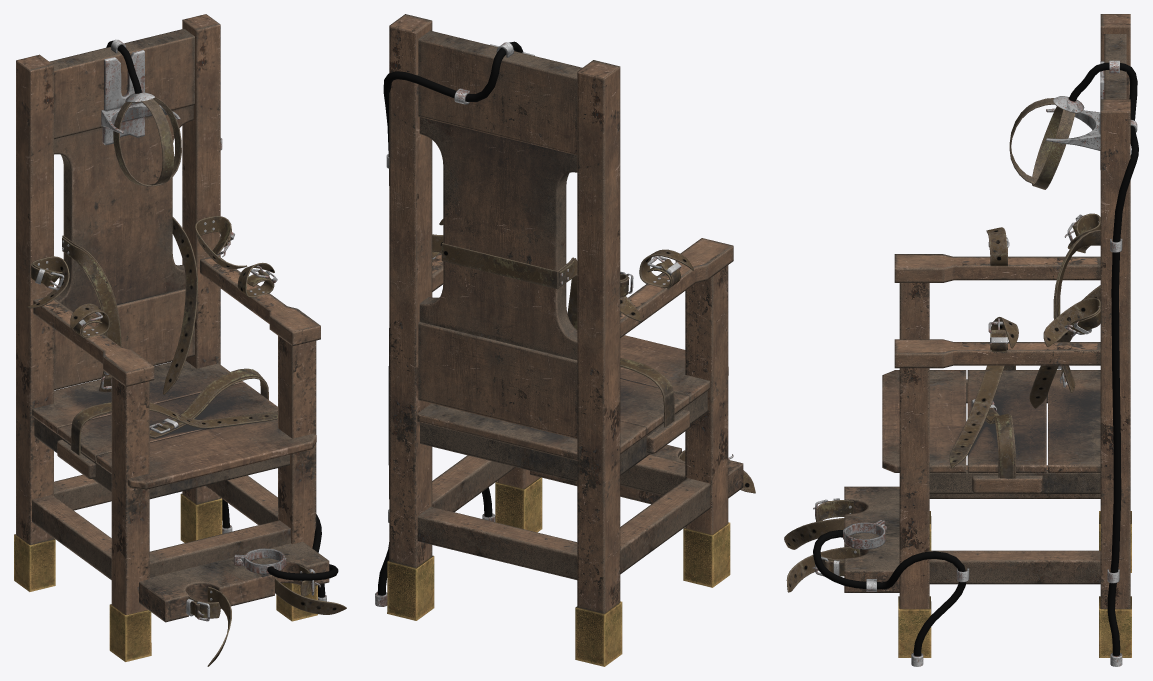
The model's file is SM_ElectricChair01_LOD0.glb.
3 views of the same model, side by side, from view 1: azimuth 30°, elevation 25°; view 2: azimuth 150°, elevation 25°; view 3: azimuth 270°, elevation 25° (orthographic). The views are drawn at different scales.
Parts seen in each view (by area): view 1: SM_ElectricChair01_LOD0; view 2: SM_ElectricChair01_LOD0; view 3: SM_ElectricChair01_LOD0.
Part boxes in pixels (bbox=[...]): SM_ElectricChair01_LOD0: bbox=[14, 14, 346, 666]; SM_ElectricChair01_LOD0: bbox=[375, 14, 755, 666]; SM_ElectricChair01_LOD0: bbox=[784, 14, 1138, 666].
Bounding box in the file's own units: 0.6452 × 1.46 × 0.8551.
Materials: 1 (1 with a texture image).
